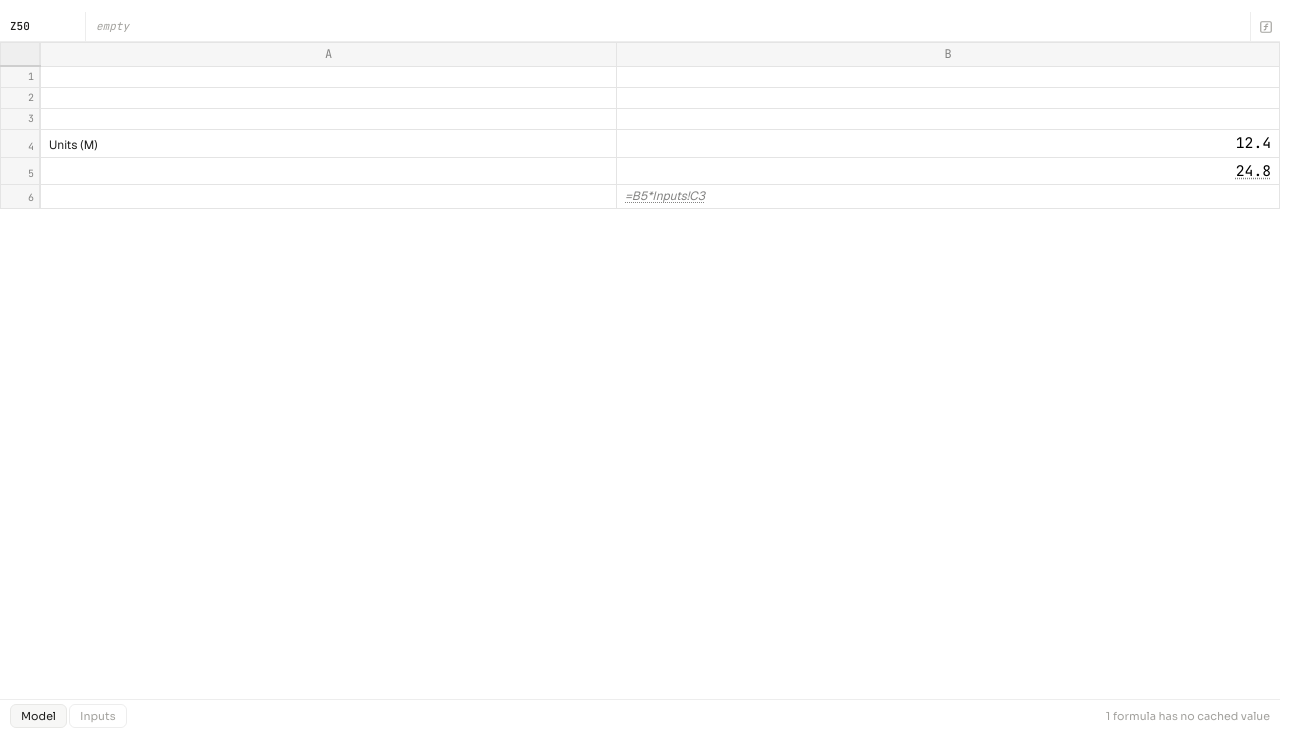
Test: ExcelViewer › offers no citation for a link past the sheet's cells
Expected: the text "Units (M)" is shown, [40,130,617,157]
Expected: the text "Add" is not shown
Press the mouse on the cell "24.8" at point(948, 171), box [617,157,1280,185]
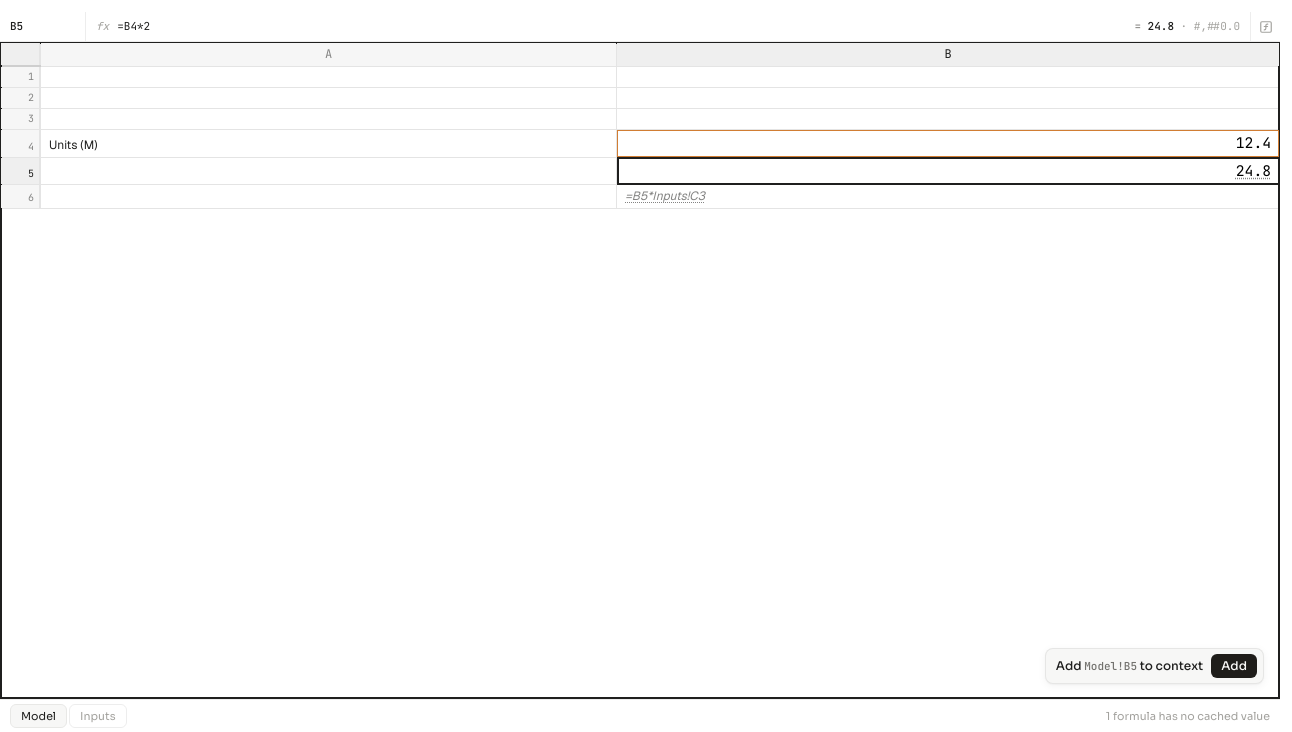
Now the button "Add" is shown, box [1211,654,1257,678]
